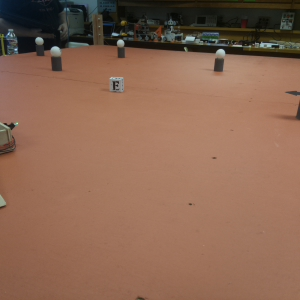blockE: (110, 77, 125, 93)
corner: (91, 14, 106, 44)
obstacle: (49, 47, 62, 71), (213, 48, 225, 71), (34, 36, 44, 57), (117, 38, 125, 58), (294, 99, 299, 124)
side: (1, 118, 24, 162)
slope: (1, 193, 11, 212)
start: (283, 88, 300, 97)
